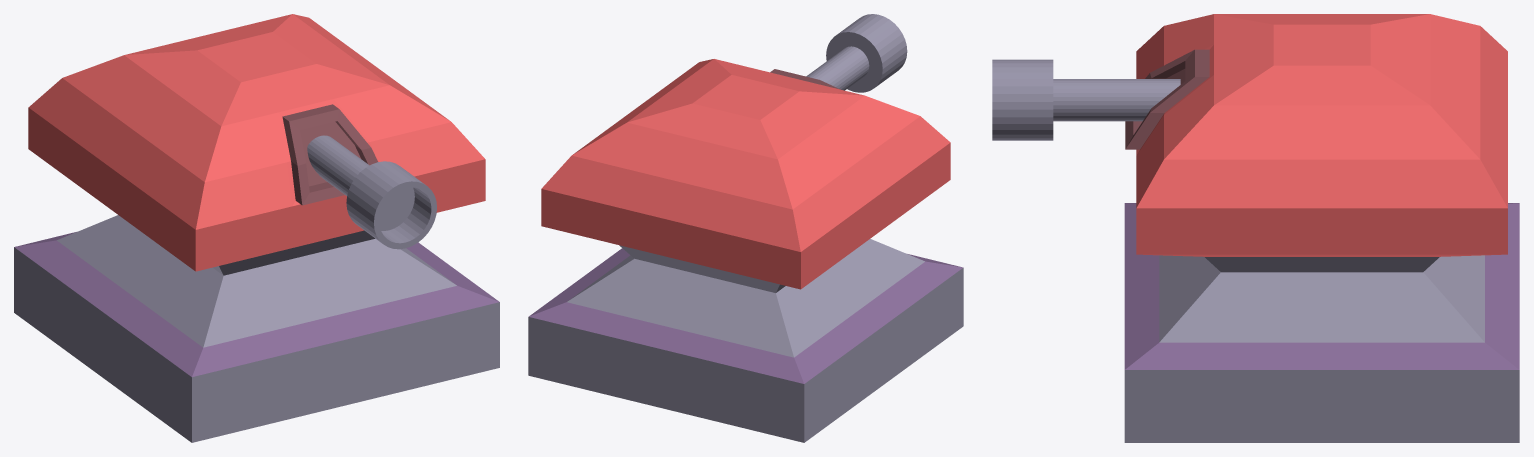
File: turretModelNew.fbx
3 renders of one model, left to right at view 1: azimuth 30°, elevation 25°; view 2: azimuth 150°, elevation 25°; view 3: azimuth 270°, elevation 25°, orthographic. The views are drawn at different scales.
Visible parts, largest first — view 1: turret_new; view 2: turret_new; view 3: turret_new.
Boxes of the visible parts, <box> form: turret_new: <box>14,14,499,442</box>; turret_new: <box>528,14,963,442</box>; turret_new: <box>992,14,1519,442</box>.
Size of the model in its own units: 200 by 176 by 267.
